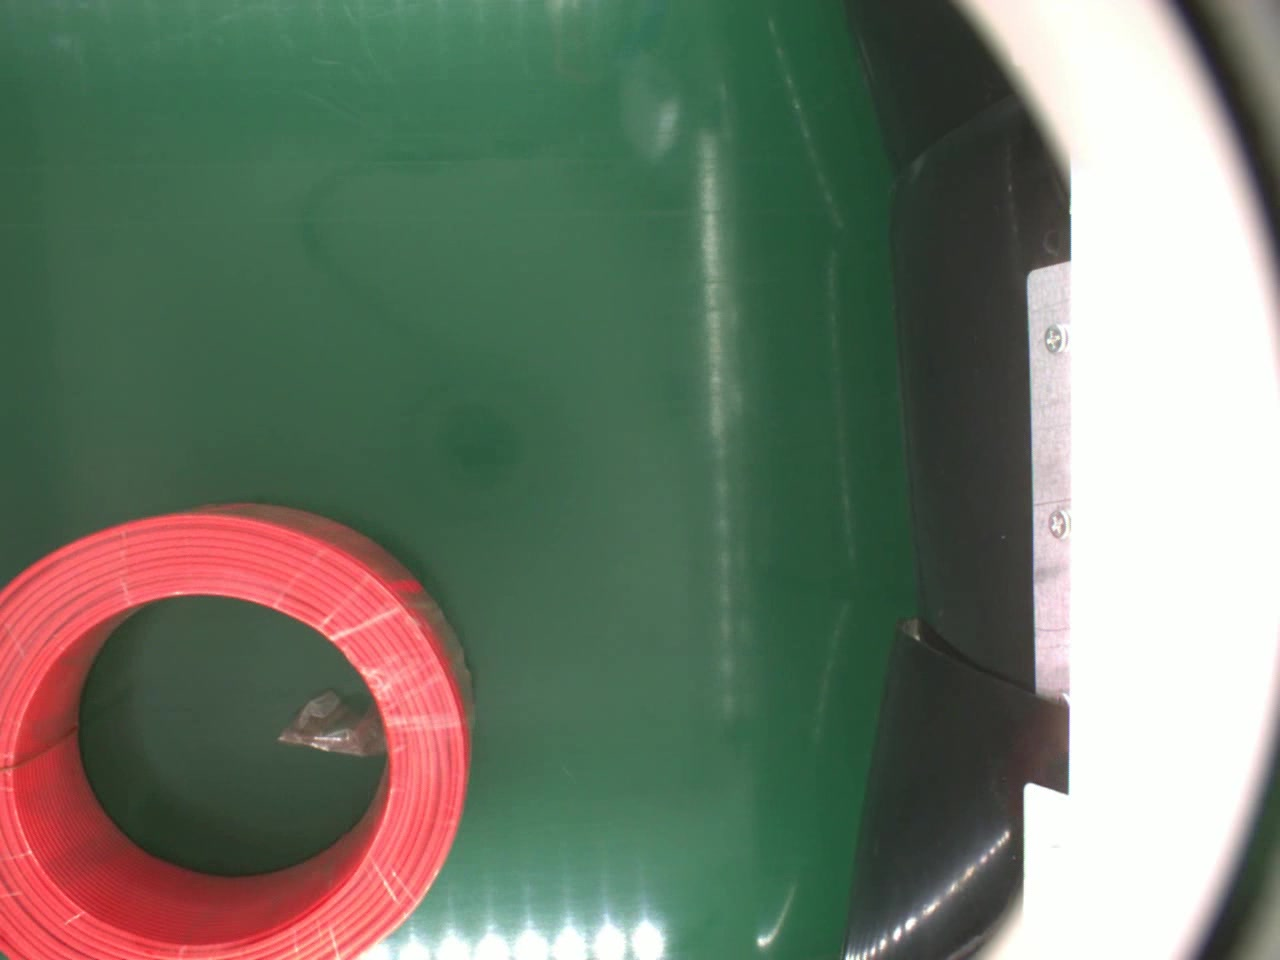red: (0, 497, 477, 960)
